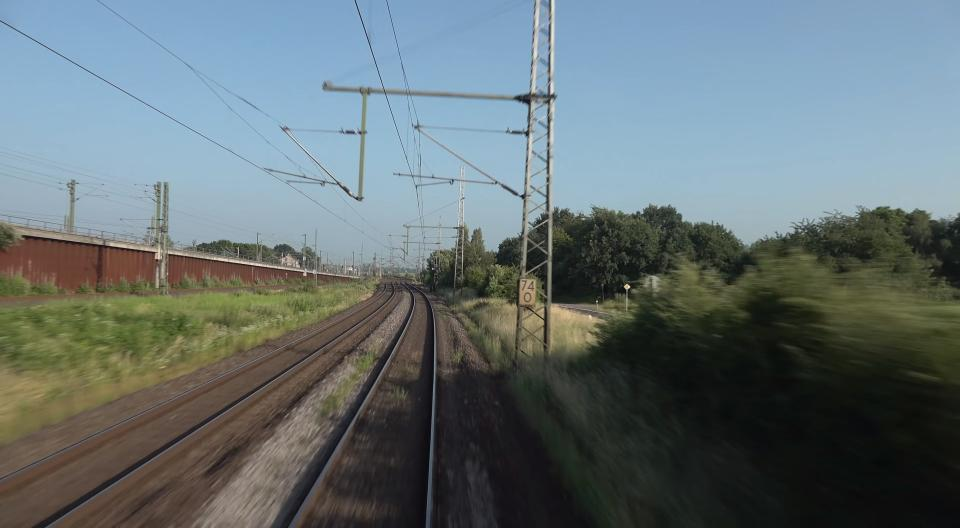Plant: (317, 347, 379, 421), (384, 385, 409, 409), (449, 342, 466, 368), (402, 361, 419, 383), (408, 350, 422, 365), (437, 312, 446, 320), (435, 304, 445, 311)
